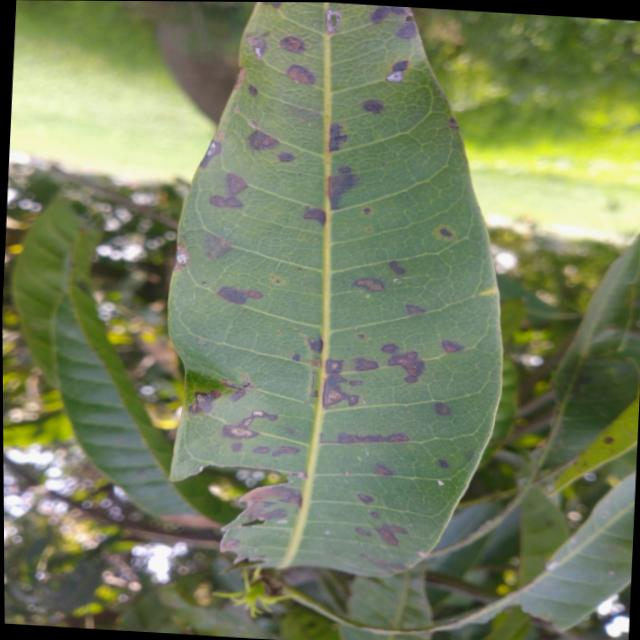Anthracnose: (239, 479, 305, 525), (218, 401, 281, 449), (315, 161, 363, 211), (385, 341, 430, 380), (240, 481, 302, 505), (372, 514, 408, 549), (322, 373, 358, 407), (358, 550, 406, 575), (244, 126, 279, 157), (324, 373, 354, 408), (284, 59, 318, 89), (327, 431, 407, 443), (393, 13, 422, 45), (220, 421, 258, 444), (219, 169, 248, 198), (215, 282, 248, 306), (216, 287, 261, 304), (188, 390, 220, 413), (205, 232, 232, 259), (352, 272, 385, 294), (246, 29, 270, 58), (200, 140, 223, 169), (366, 2, 393, 25), (385, 56, 408, 83), (328, 122, 348, 151), (278, 33, 305, 51), (303, 205, 327, 225), (360, 96, 384, 115), (174, 242, 190, 270), (386, 258, 407, 278), (208, 195, 242, 207), (270, 443, 299, 457), (228, 384, 248, 404), (232, 65, 248, 90), (436, 223, 456, 242), (325, 8, 340, 33), (383, 430, 407, 445), (439, 338, 464, 352), (403, 303, 426, 318), (354, 357, 378, 370), (432, 400, 451, 416), (355, 490, 374, 506), (373, 462, 394, 476), (325, 357, 342, 374), (352, 524, 372, 538), (220, 538, 239, 551), (228, 438, 244, 453), (306, 337, 323, 351), (392, 59, 409, 73), (381, 342, 400, 354), (245, 82, 259, 97), (277, 151, 294, 162), (464, 449, 477, 463), (308, 356, 322, 368), (246, 288, 261, 297), (368, 509, 380, 520), (448, 117, 459, 128), (438, 457, 448, 469), (252, 446, 269, 453), (246, 119, 258, 127), (263, 2, 281, 7), (602, 435, 613, 443), (349, 380, 363, 386), (362, 206, 372, 213), (291, 353, 300, 360)
